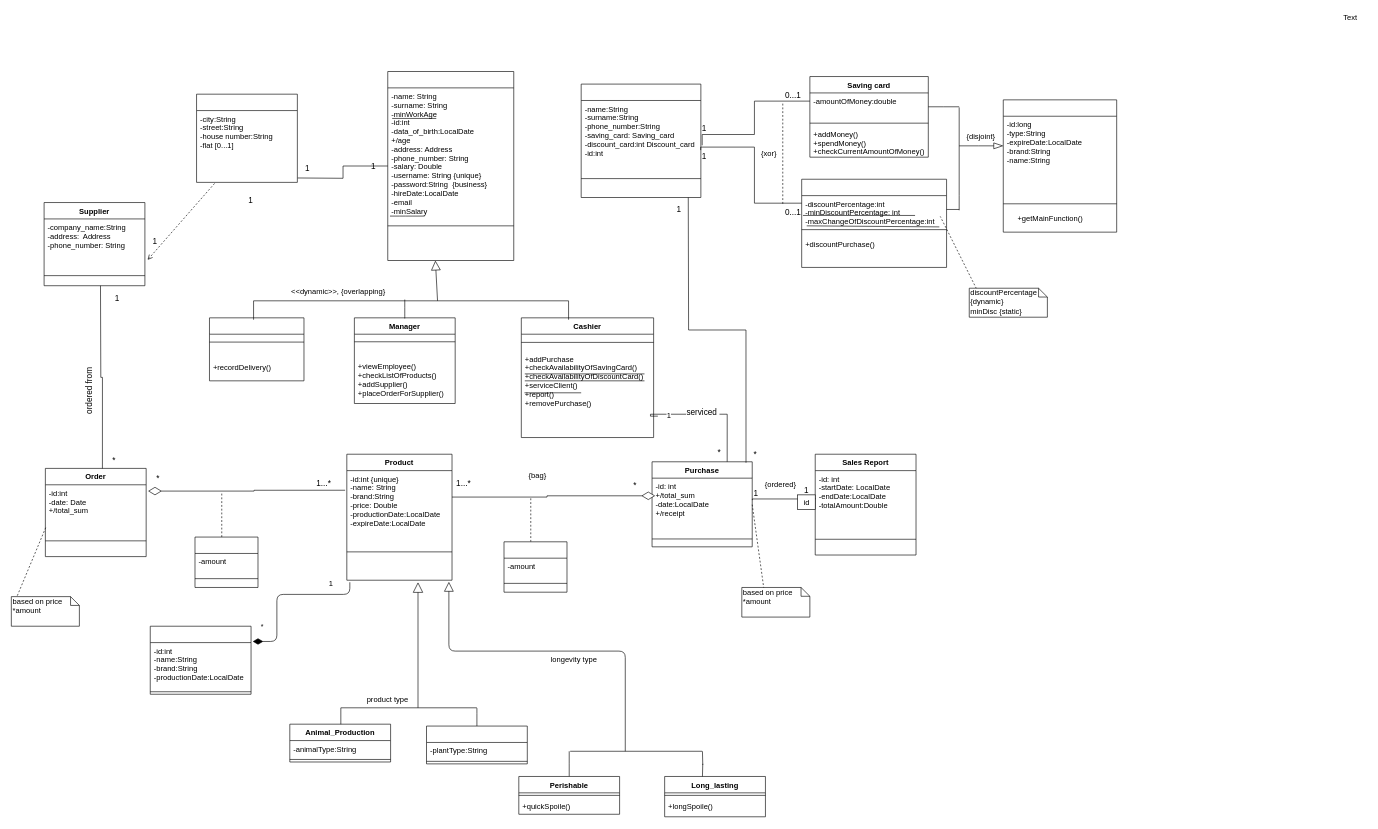
Some shapes in this 1378 by 829 pixel diagram are drawn without their labels. The shapes that lost their labels are listed below. From the top down, each one's box as (x1, y1, x2, y2) in pixels, then its label:
(196, 94, 297, 182): Address
(581, 83, 701, 198): Client
(387, 71, 514, 261): Employee {abstract}
(1003, 99, 1117, 232): Card {abstract}
(801, 179, 947, 267): Discount card
(209, 317, 304, 381): Warehouse worker
(150, 626, 251, 694): Certificate
(426, 725, 527, 764): Plant_Production
